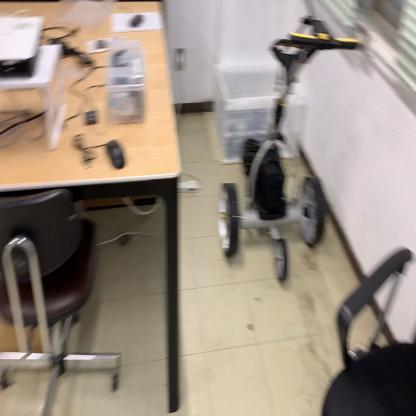chair: (0, 186, 127, 416)
